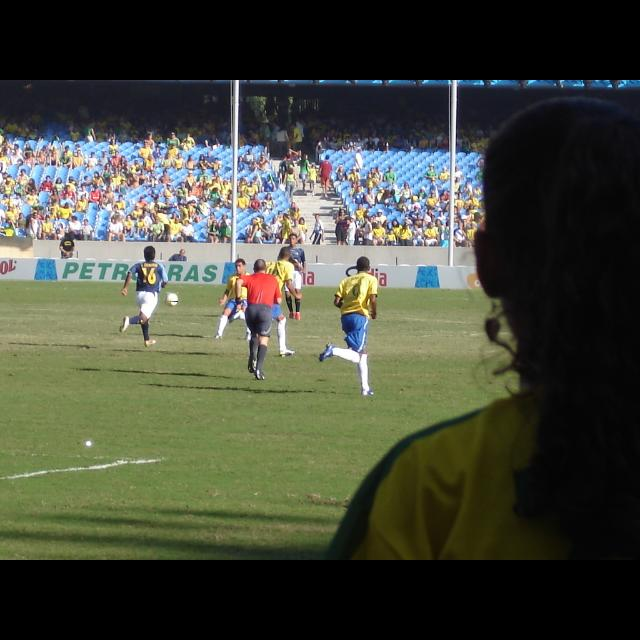Football: (166, 292, 178, 302)
